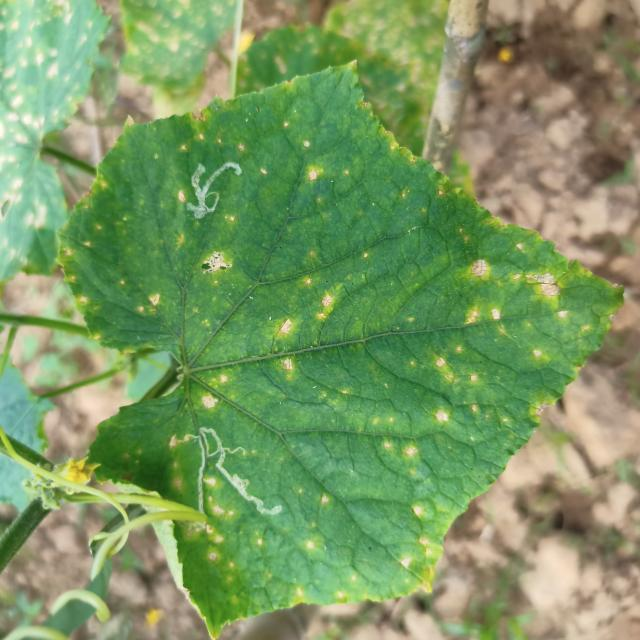disease_cucumber: (391, 229, 594, 513), (140, 427, 454, 606), (67, 126, 234, 333), (176, 275, 349, 422), (178, 118, 341, 188)
